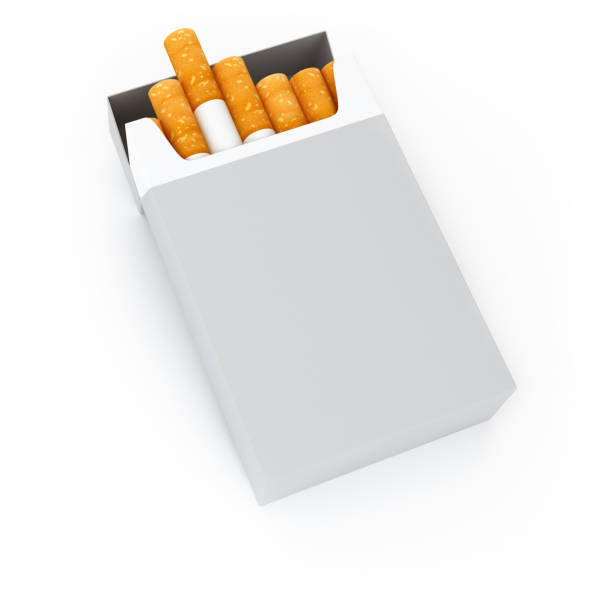cigarette: (107, 29, 516, 511), (163, 29, 242, 153), (210, 56, 277, 142), (148, 78, 211, 161), (254, 72, 308, 134), (288, 67, 338, 124), (322, 59, 339, 109)
